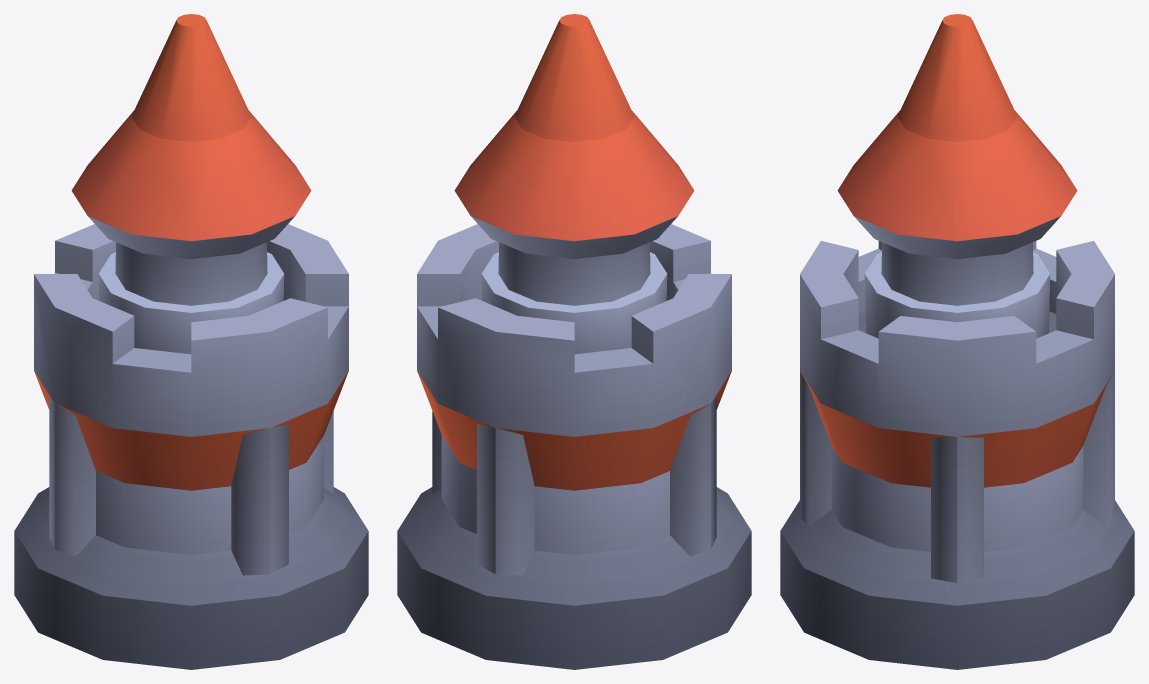
The model's file is tower-round-build-d.fbx.
The picture shows the model from 3 angles, left to right: view 1: azimuth 30°, elevation 25°; view 2: azimuth 150°, elevation 25°; view 3: azimuth 270°, elevation 25°; orthographic projection.
Visible parts, largest first — view 1: tower-round-build-d; view 2: tower-round-build-d; view 3: tower-round-build-d.
Boxes of the visible parts, box(x1,y1,x2,y2) form: tower-round-build-d: box(14, 14, 368, 669); tower-round-build-d: box(397, 14, 751, 669); tower-round-build-d: box(780, 14, 1134, 669).
Bounding box in the file's own units: 100 × 179 × 100.
